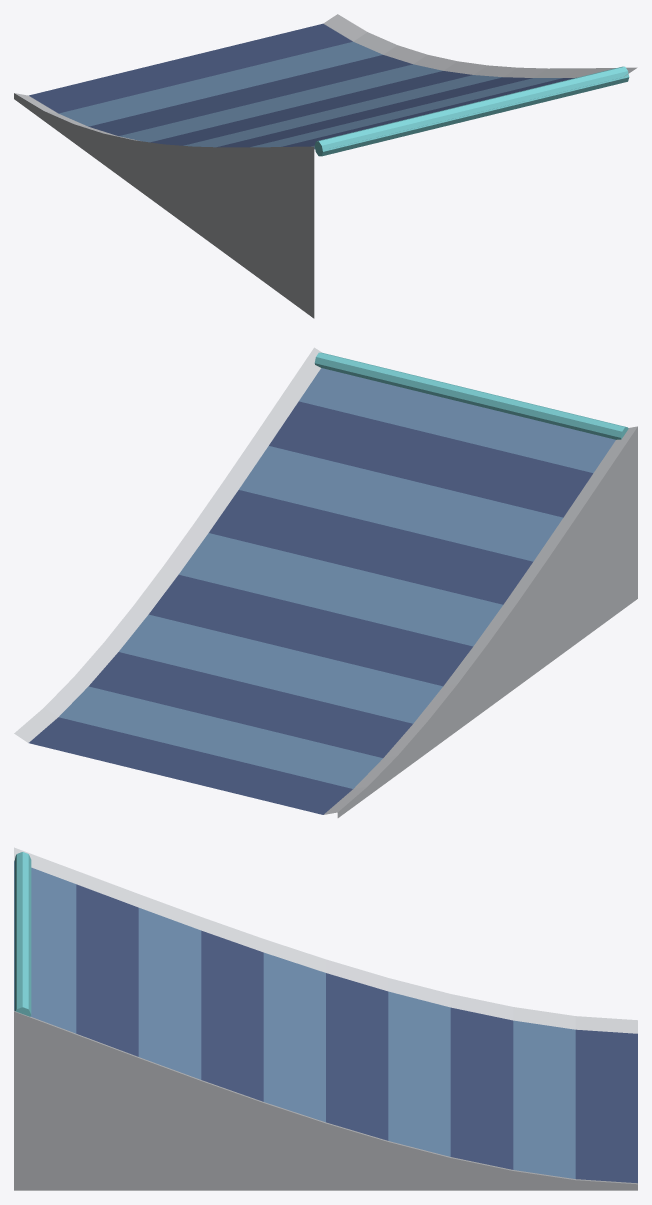
File: rn2-orbital-ramp.glb
3 renders of one model, top to bottom at view 1: azimuth 30°, elevation 25°; view 2: azimuth 150°, elevation 25°; view 3: azimuth 270°, elevation 25°, orthographic. The views are drawn at different scales.
Visible parts, largest first — view 1: rn2_orbital_ramp_body, rn2_orbital_ramp_glow; view 2: rn2_orbital_ramp_body, rn2_orbital_ramp_glow; view 3: rn2_orbital_ramp_body, rn2_orbital_ramp_glow.
Boxes of the visible parts, box(x1,y1,x2,y2) form: rn2_orbital_ramp_body: box(14, 14, 637, 318); rn2_orbital_ramp_glow: box(314, 66, 629, 156); rn2_orbital_ramp_body: box(14, 347, 637, 817); rn2_orbital_ramp_glow: box(314, 352, 628, 439); rn2_orbital_ramp_body: box(14, 847, 637, 1190); rn2_orbital_ramp_glow: box(14, 852, 31, 1016).
Bounding box in the file's own units: 2.24 × 1.14 × 3.6.
